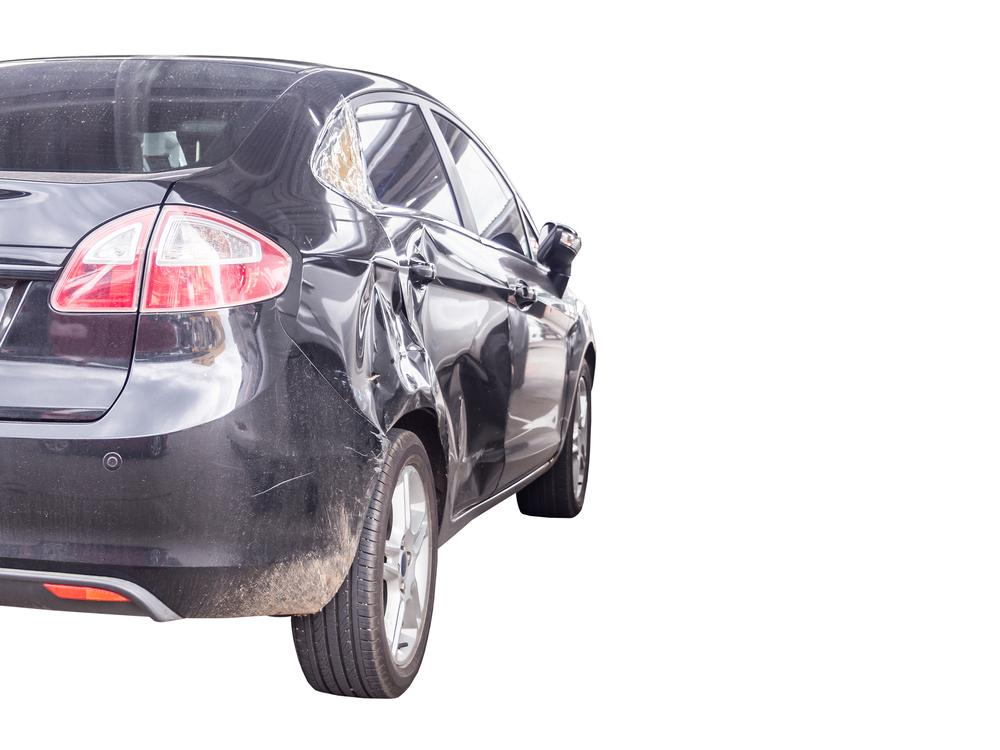dent: (348, 225, 504, 514)
